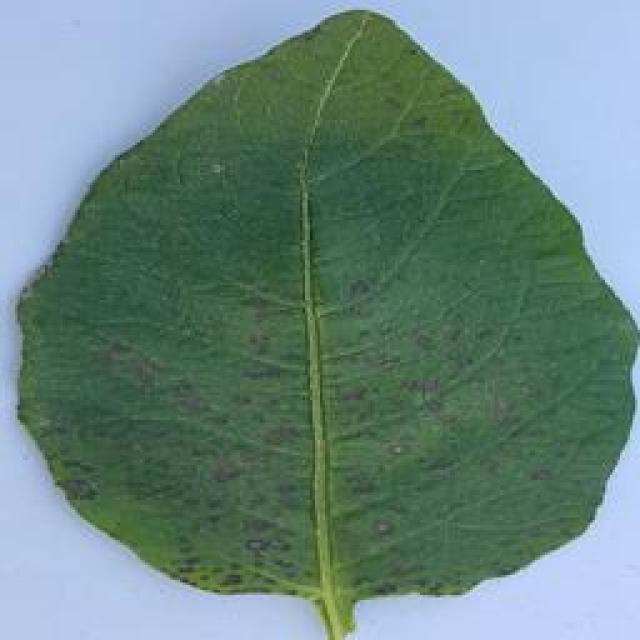Potato_Early_Blight: (19, 18, 640, 619)
